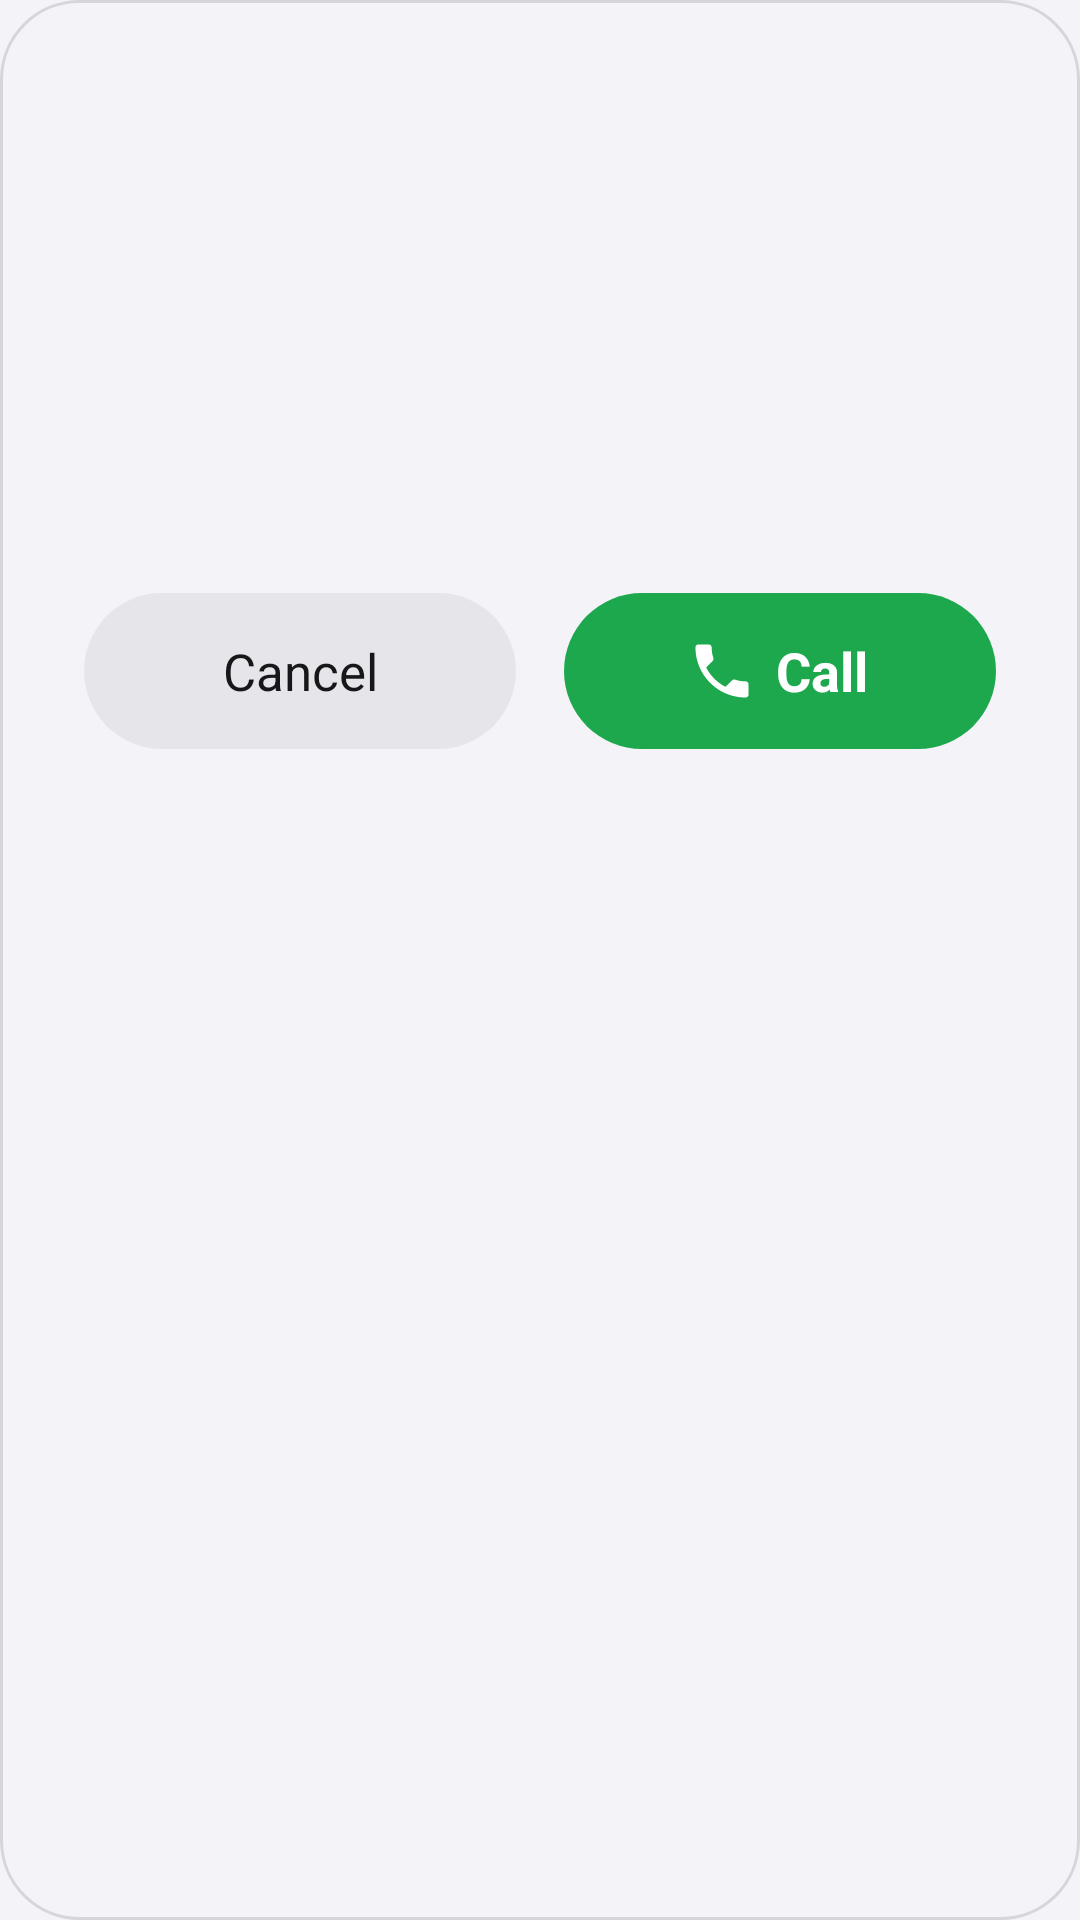

Where icons sit on this 1080×1920 app screen, as [x1, y1, x2, y2]:
phone: [695, 644, 749, 698]
